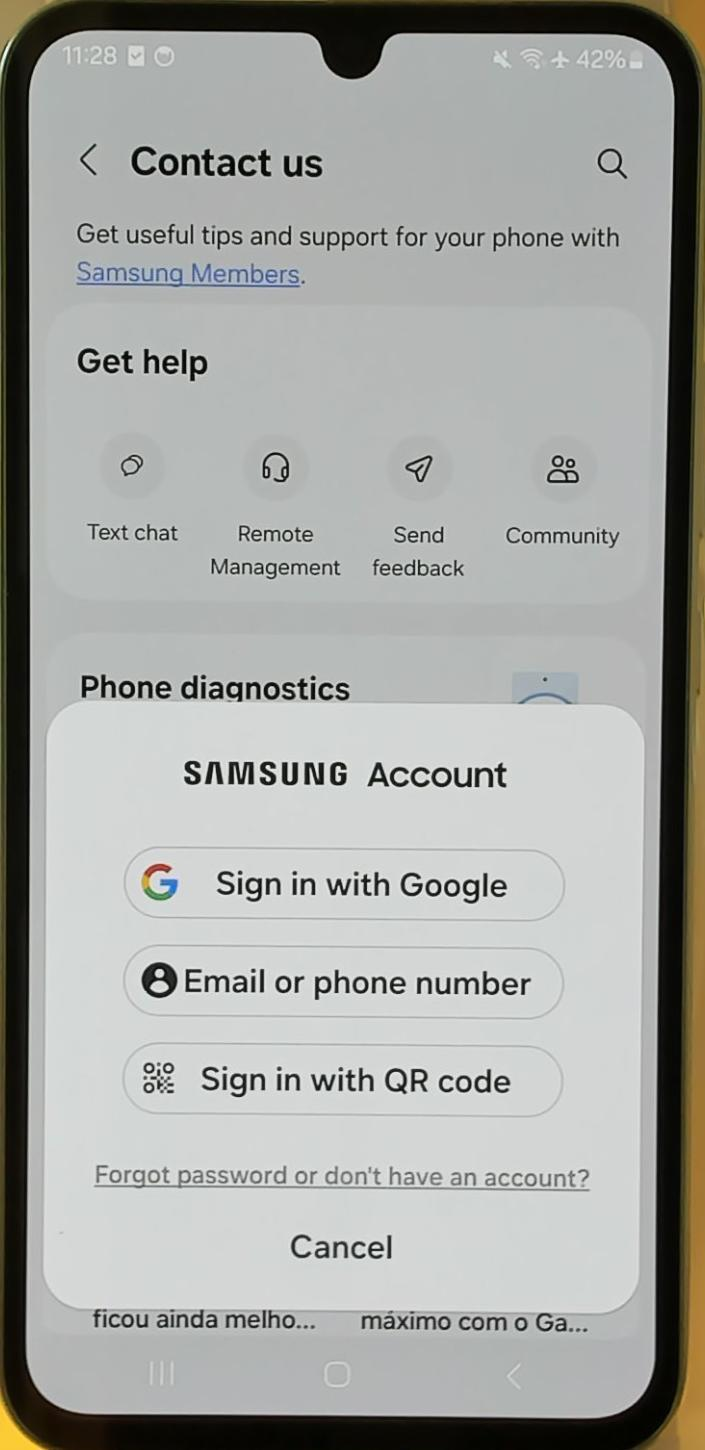CommunBotton: (124, 934, 572, 1030), (122, 1034, 580, 1124), (122, 836, 570, 926), (84, 1158, 604, 1204), (280, 1232, 414, 1270), (582, 126, 638, 190), (132, 1332, 190, 1392), (316, 1340, 354, 1402), (494, 1346, 534, 1398)
